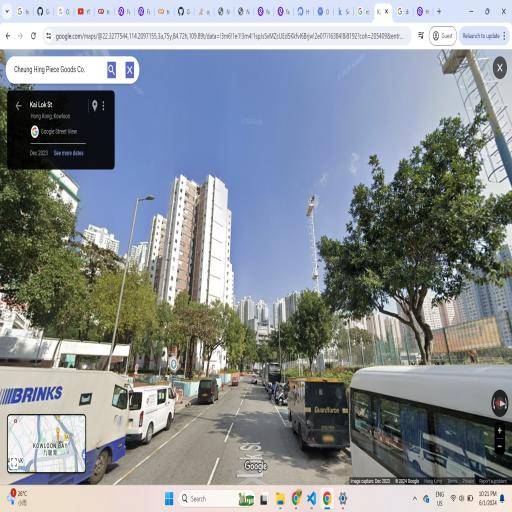Roads: (132, 365, 460, 477)
Trees: (317, 131, 507, 360), (18, 172, 71, 332), (75, 251, 153, 343), (166, 300, 230, 386), (234, 313, 252, 374)
